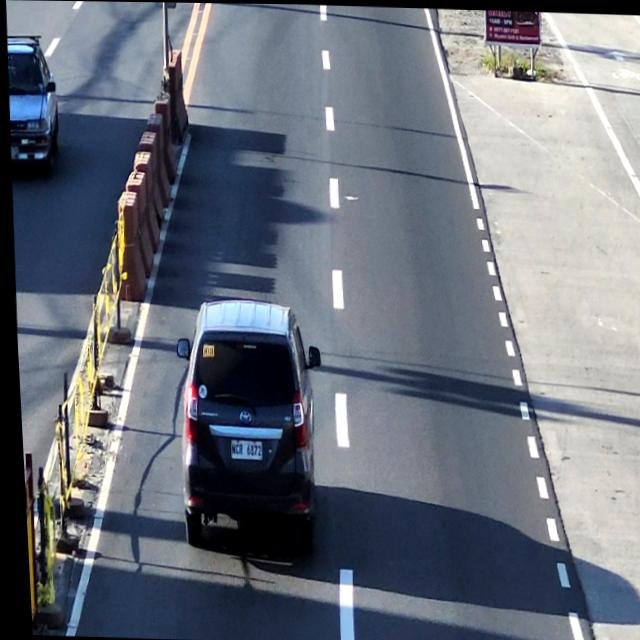Car: (171, 301, 316, 552)
License-Plate: (224, 440, 258, 463)
